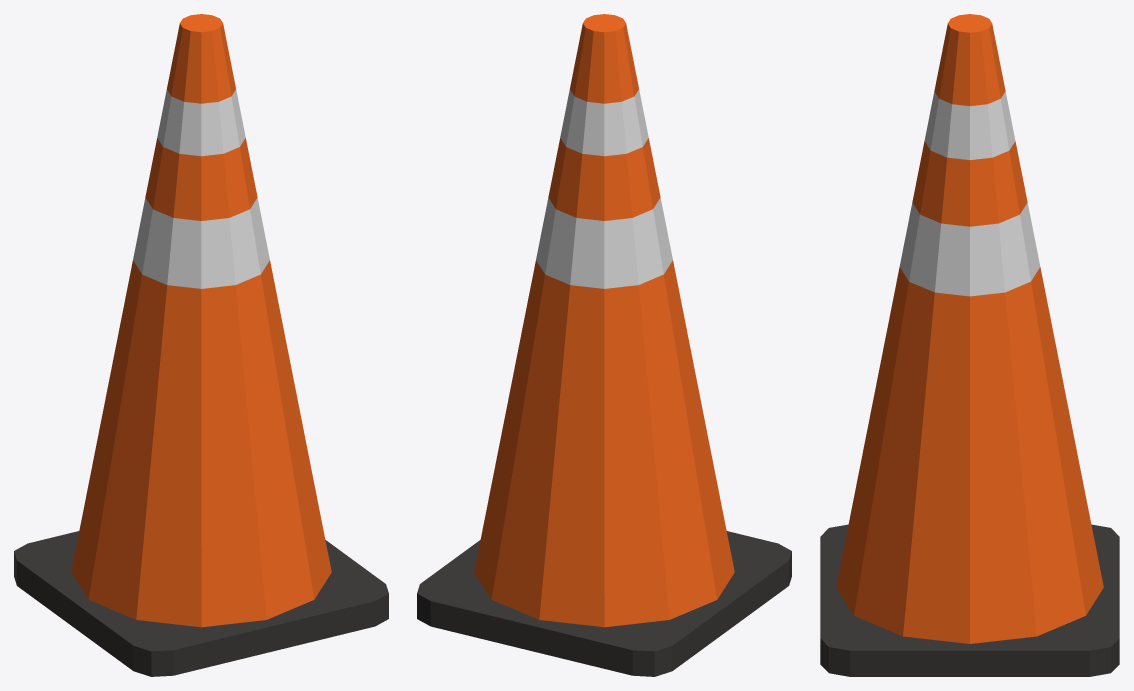
The model's file is SM_Factory_PVC_cone.glb.
The picture shows the model from 3 angles, left to right: view 1: azimuth 30°, elevation 25°; view 2: azimuth 150°, elevation 25°; view 3: azimuth 270°, elevation 25°; orthographic projection. The views are drawn at different scales.
Parts seen in each view (by area): view 1: SM_Factory_PVC_cone; view 2: SM_Factory_PVC_cone; view 3: SM_Factory_PVC_cone.
Part boxes in pixels (<box>): SM_Factory_PVC_cone: <box>14,14,388,676</box>; SM_Factory_PVC_cone: <box>417,14,791,676</box>; SM_Factory_PVC_cone: <box>820,14,1119,676</box>.
Size of the model in its own units: 0.3143 by 0.6832 by 0.3143.
Materials: 1 (1 with a texture image).
